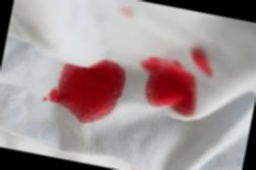blood: (45, 50, 130, 130), (133, 53, 204, 120)
